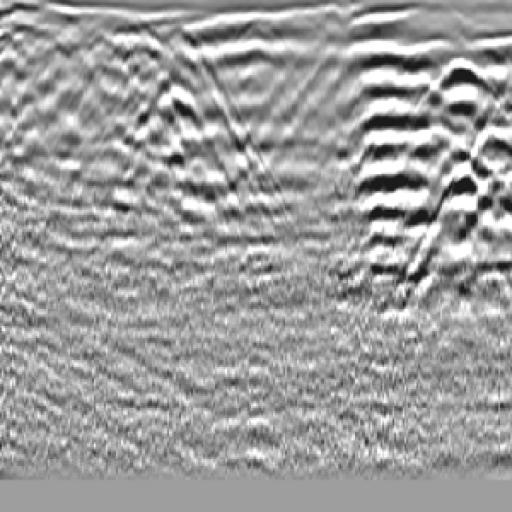non-metallic: (337, 28, 512, 291), (95, 21, 264, 239)
